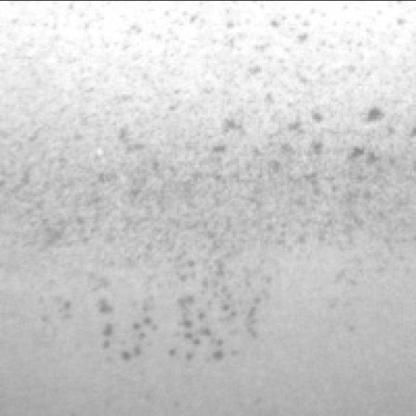pitted_surface: (43, 10, 416, 365)
